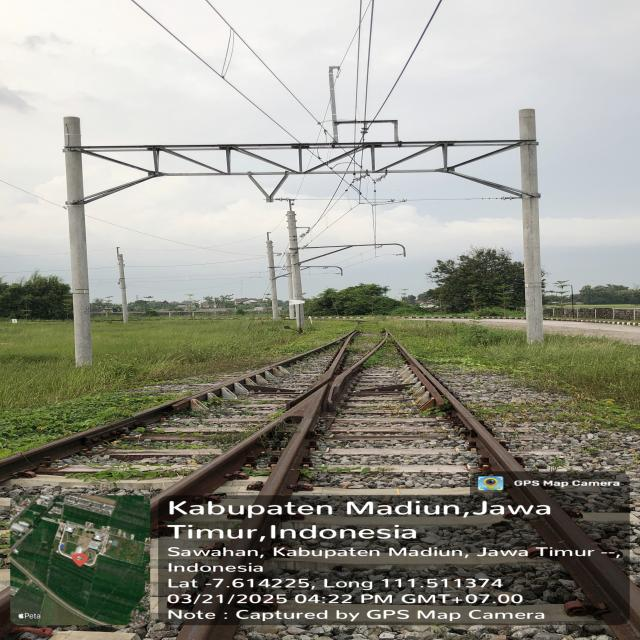rail-detection: (396, 341, 637, 625), (150, 331, 385, 551), (0, 341, 340, 481), (179, 559, 260, 640)
